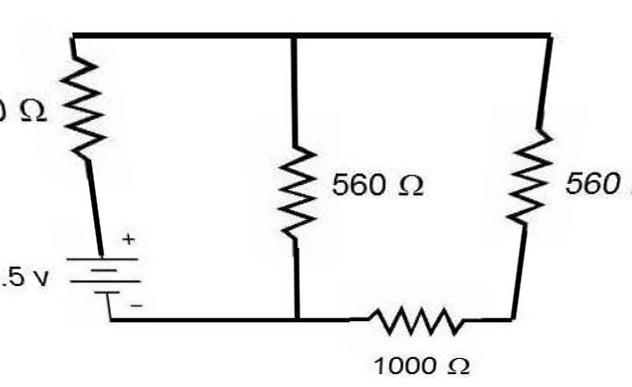resistor: (500, 116, 566, 238), (261, 132, 324, 249), (55, 48, 110, 167), (348, 293, 468, 344)
